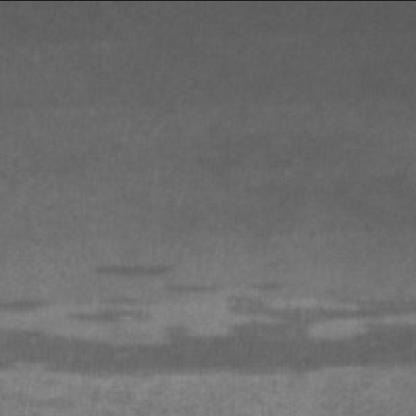inclusion: (0, 278, 410, 375)
